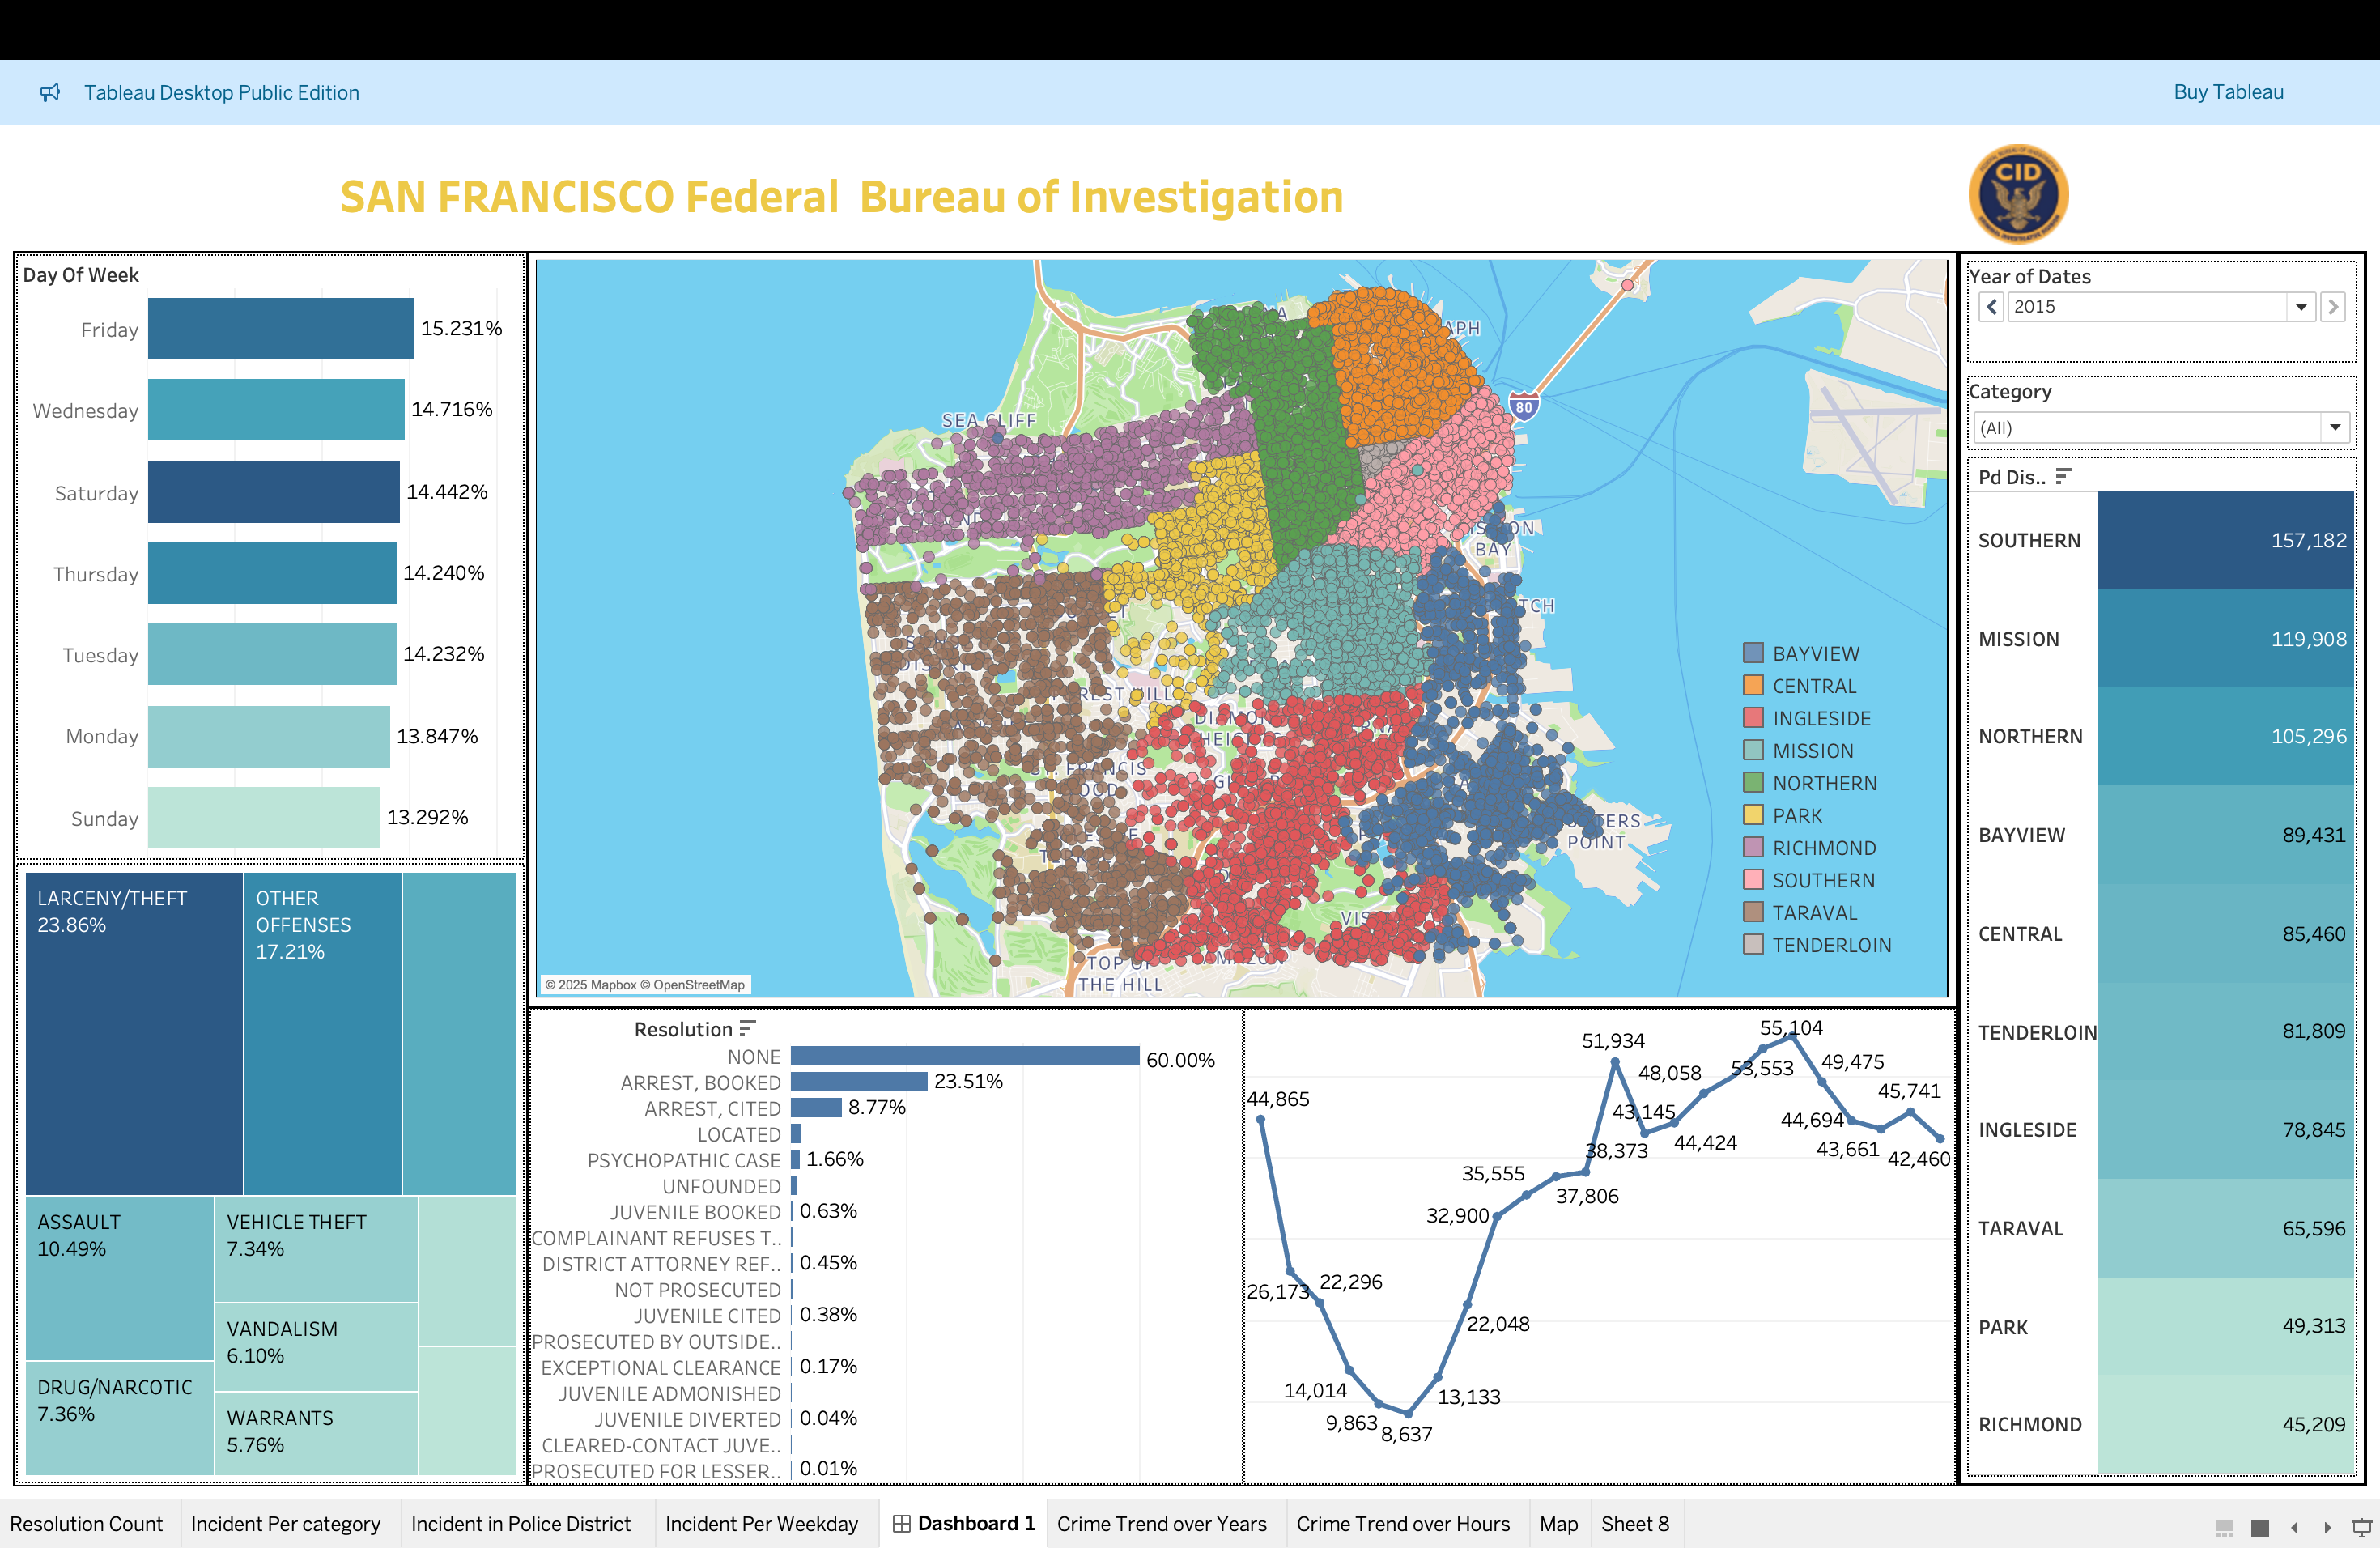

Layout of this report page (visuals, bound fields, positions):
{"tool":"tableau","page":{"name":"Dashboard 1","canvas":[1000,1000],"units":"permille","ordinal":0},"visuals":[{"type":"text","box":[6.4,10.6,695.8,82.1]},{"type":"image","param":"/Users/kushagra/Downloads/Criminal_Investigative_Division.png","box":[702.1,10.6,291.5,82.1]},{"type":"worksheet","title":"Sheet 8","mark":"Automatic","rows":["Category"],"box":[822.2,92.7,171.5,0.3]},{"type":"worksheet","title":"Map","mark":"Multipolygon","rows":["Y"],"cols":["X"],"box":[223.2,93.7,598.1,546.2]},{"type":"worksheet","title":"Incident Per Weekday","mark":"Automatic","rows":["DayOfWeek"],"cols":["DayOfWeek"],"box":[7.1,94,214.3,496]},{"type":"currpage","title":"Map","box":[823.8,95.6,168.3,93.7]},{"type":"filter","title":"Map","param":"[federated.05adr1q1wbjenp1ejhg1a15zipbj].[none:Category:nk]","box":[823.8,189.3,168.3,71.2]},{"type":"worksheet","title":"Incident in Police District","mark":"Square","rows":["PdDistrict"],"box":[823.8,260.5,168.3,726.3]},{"type":"legend","title":"Map","param":"[federated.05adr1q1wbjenp1ejhg1a15zipbj].[none:PdDistrict:nk]","box":[729.8,372.3,85.5,259.2]},{"type":"worksheet","title":"Incident Per category","mark":"Automatic","box":[7.1,590,214.3,398.1]},{"type":"worksheet","title":"Resolution Count","mark":"Bar","rows":["Resolution"],"box":[223.2,642.5,299.4,345.7]},{"type":"worksheet","title":"Crime Trend over Hours","mark":"Line","rows":["Calculation_2956472482962788352"],"cols":["Dates"],"box":[522.6,642.5,298.7,345.7]}]}

Visuals, with their boxes on the dashboard's canvas, which has no fixed pixel size, in thousandths of its width and height (x1, y1, x2, y2). These are canvas units, not pixel positions in the 2380x1548 screenshot, which may show the page scaled, cropped or inside an application window:
text: locate(6, 11, 702, 93)
image: locate(702, 11, 994, 93)
"Sheet 8" worksheet: locate(822, 93, 994, 93)
"Map" worksheet (Multipolygon marks): locate(223, 94, 821, 640)
"Incident Per Weekday" worksheet: locate(7, 94, 221, 590)
"Map" currpage: locate(824, 96, 992, 189)
"Map" filter: locate(824, 189, 992, 260)
"Incident in Police District" worksheet (Square marks): locate(824, 260, 992, 987)
"Map" legend: locate(730, 372, 815, 632)
"Incident Per category" worksheet: locate(7, 590, 221, 988)
"Resolution Count" worksheet (Bar marks): locate(223, 642, 523, 988)
"Crime Trend over Hours" worksheet (Line marks): locate(523, 642, 821, 988)
